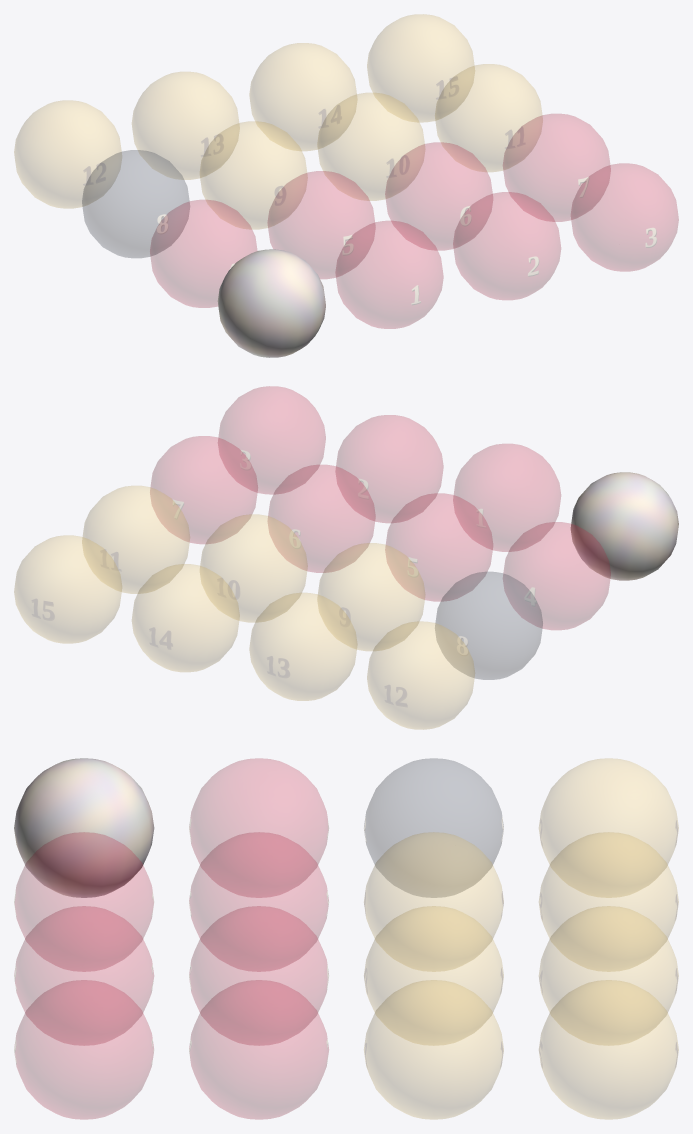
File: balls-quality.glb
3 renders of one model, top to bottom at view 1: azimuth 30°, elevation 25°; view 2: azimuth 150°, elevation 25°; view 3: azimuth 270°, elevation 25°, orthographic. The views are drawn at different scales.
Parts seen in each view (by area): view 1: ball-0, ball-2, ball-3, ball-1, ball-8, ball-12, ball-6, ball-9, ball-11, ball-15, ball-10, ball-7 (+4 smaller); view 2: ball-0, ball-14, ball-15, ball-12, ball-8, ball-13, ball-4, ball-10, ball-7, ball-3, ball-6, ball-5 (+4 smaller); view 3: ball-0, ball-3, ball-15, ball-7, ball-11, ball-8, ball-4, ball-12, ball-5, ball-9, ball-2, ball-6 (+4 smaller).
Part boxes in pixels (left/top/right/bottom): ball-0: left=217, top=249, right=325, bottom=357; ball-2: left=453, top=192, right=560, bottom=299; ball-3: left=571, top=163, right=678, bottom=271; ball-1: left=335, top=221, right=443, bottom=328; ball-8: left=82, top=150, right=189, bottom=257; ball-12: left=14, top=100, right=121, bottom=208; ball-6: left=385, top=142, right=492, bottom=250; ball-9: left=200, top=121, right=307, bottom=229; ball-11: left=435, top=64, right=542, bottom=171; ball-15: left=367, top=14, right=474, bottom=122; ball-10: left=317, top=93, right=424, bottom=200; ball-7: left=503, top=114, right=610, bottom=221; ball-0: left=570, top=472, right=678, bottom=580; ball-14: left=132, top=564, right=239, bottom=671; ball-15: left=14, top=535, right=121, bottom=643; ball-12: left=367, top=621, right=474, bottom=729; ball-8: left=435, top=572, right=542, bottom=679; ball-13: left=249, top=593, right=357, bottom=700; ball-4: left=503, top=522, right=610, bottom=629; ball-10: left=200, top=514, right=307, bottom=622; ball-7: left=150, top=436, right=257, bottom=543; ball-3: left=218, top=386, right=325, bottom=494; ball-6: left=268, top=465, right=375, bottom=572; ball-5: left=385, top=493, right=492, bottom=601; ball-0: left=14, top=758, right=154, bottom=897; ball-3: left=14, top=980, right=153, bottom=1119; ball-15: left=539, top=980, right=678, bottom=1119; ball-7: left=189, top=980, right=328, bottom=1119; ball-11: left=364, top=980, right=503, bottom=1119; ball-8: left=364, top=758, right=503, bottom=897; ball-4: left=189, top=758, right=328, bottom=897; ball-12: left=539, top=758, right=678, bottom=897; ball-5: left=189, top=832, right=328, bottom=971; ball-9: left=364, top=832, right=503, bottom=971; ball-2: left=14, top=906, right=153, bottom=1045; ball-6: left=189, top=906, right=328, bottom=1045.
Size of the model in its own units: 0.4278 by 0.0903 by 0.4278.
16 materials, 16 textured.
